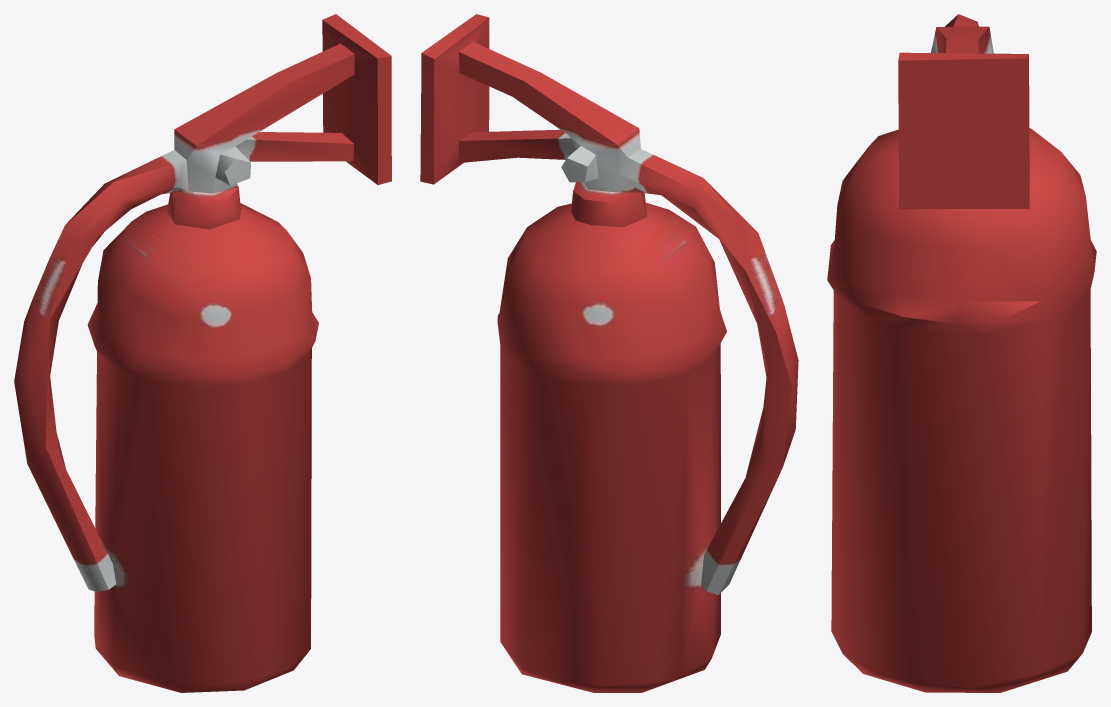
The picture shows the model from 3 angles, left to right: view 1: azimuth 30°, elevation 25°; view 2: azimuth 150°, elevation 25°; view 3: azimuth 270°, elevation 25°; orthographic projection. The views are drawn at different scales.
Parts seen in each view (by area): view 1: Decor_extinguisher; view 2: Decor_extinguisher; view 3: Decor_extinguisher.
Part boxes in pixels (x1,y1,x2,y2): Decor_extinguisher: (14, 14, 391, 692); Decor_extinguisher: (420, 14, 798, 692); Decor_extinguisher: (827, 14, 1096, 692).
Size of the model in its own units: 0.3128 by 0.4987 by 0.179.
Materials: 1 (1 with a texture image).
